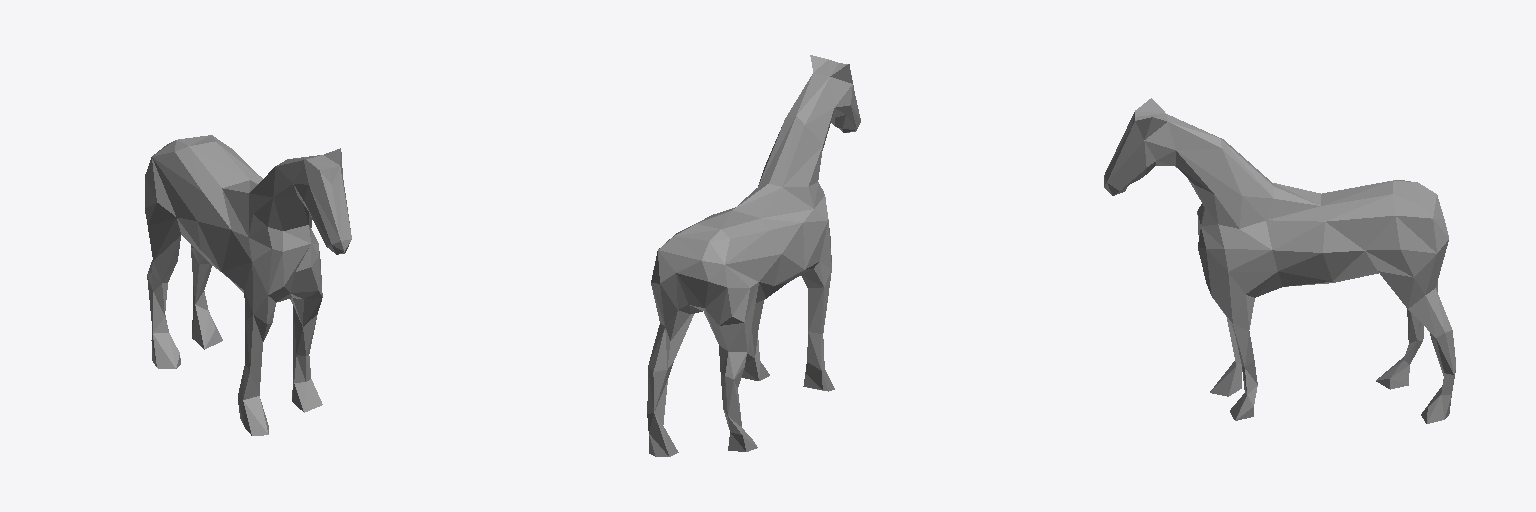
The model's file is horse.obj.
The picture shows the model from 3 angles: view 1: azimuth 30°, elevation 25°; view 2: azimuth 150°, elevation 25°; view 3: azimuth 270°, elevation 25°; orthographic projection.
Visible parts, largest first — view 1: Pferd_pf_01; view 2: Pferd_pf_01; view 3: Pferd_pf_01.
Part boxes in pixels (x1,y1,x2,y2): Pferd_pf_01: (145,135,351,435); Pferd_pf_01: (647,55,860,456); Pferd_pf_01: (1104,98,1455,423).
Bounding box in the file's own units: 24.51 × 78.73 × 84.1.